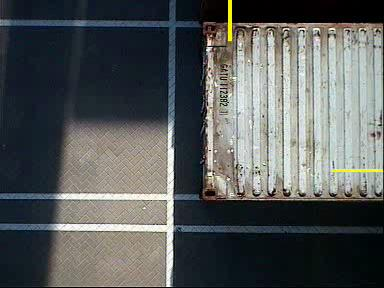groundmarker_2: (135, 101, 202, 145)
